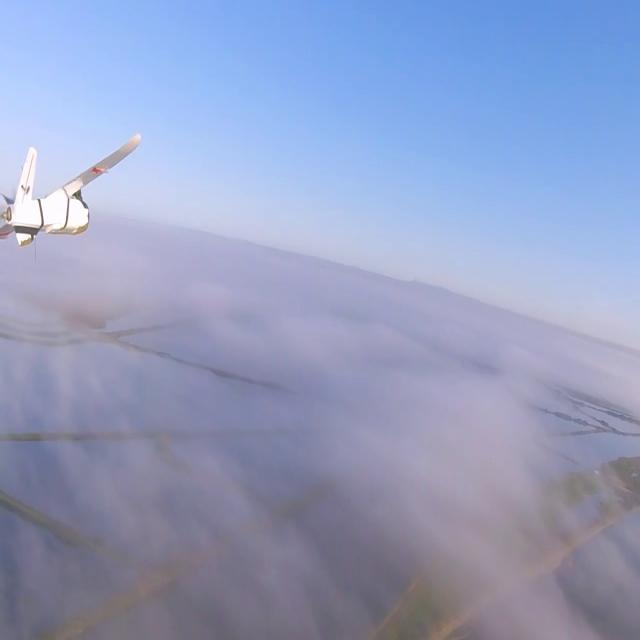iha: (0, 165, 67, 222)
